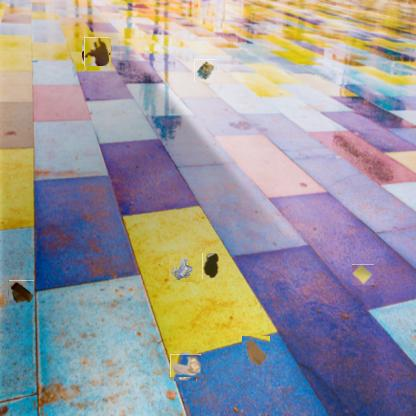dirty: (242, 336, 270, 368), (172, 352, 199, 379), (169, 255, 195, 281), (8, 280, 34, 305), (194, 59, 217, 82), (352, 264, 374, 285)
liquid: (83, 38, 110, 65), (202, 253, 219, 279)
